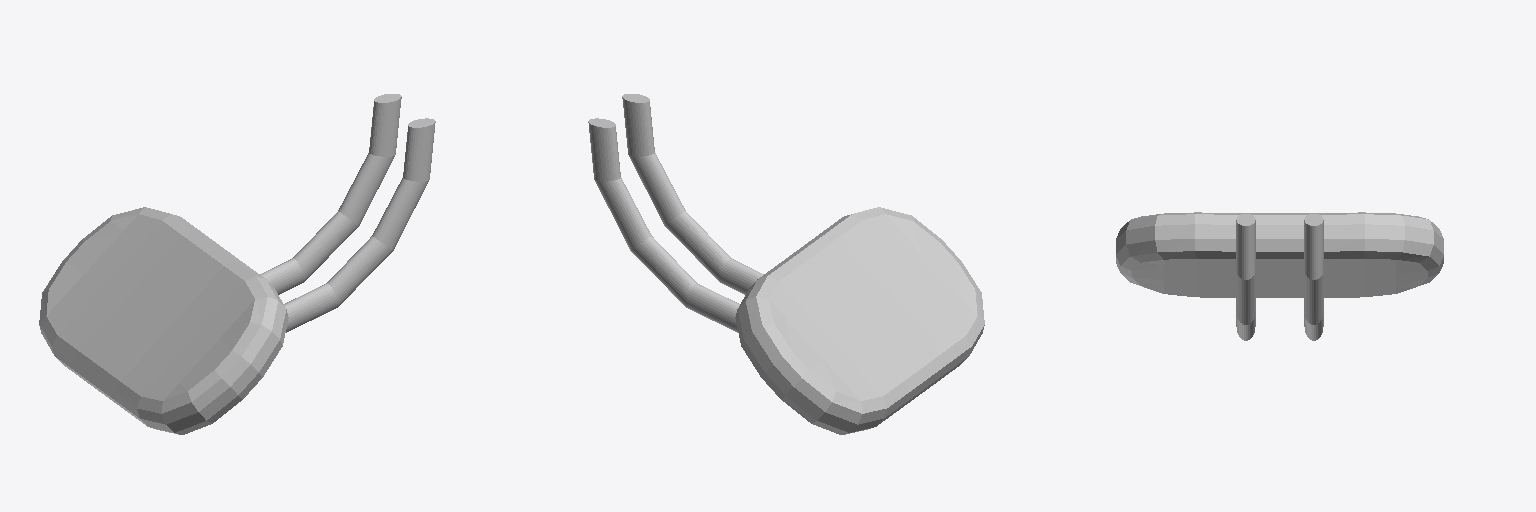
Rendered from Option19_P.obj.
3 renders of one model, left to right at view 1: azimuth 30°, elevation 25°; view 2: azimuth 150°, elevation 25°; view 3: azimuth 270°, elevation 25°, orthographic.
Parts seen in each view (by area): view 1: Legrest; view 2: Legrest; view 3: Legrest.
Boxes of the visible parts, <box> form: Legrest: <box>39,94,435,434</box>; Legrest: <box>588,94,984,434</box>; Legrest: <box>1116,212,1443,340</box>.
Size of the model in its own units: 2.27 by 1.46 by 2.